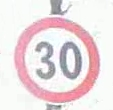limite 30: (13, 16, 102, 103)
